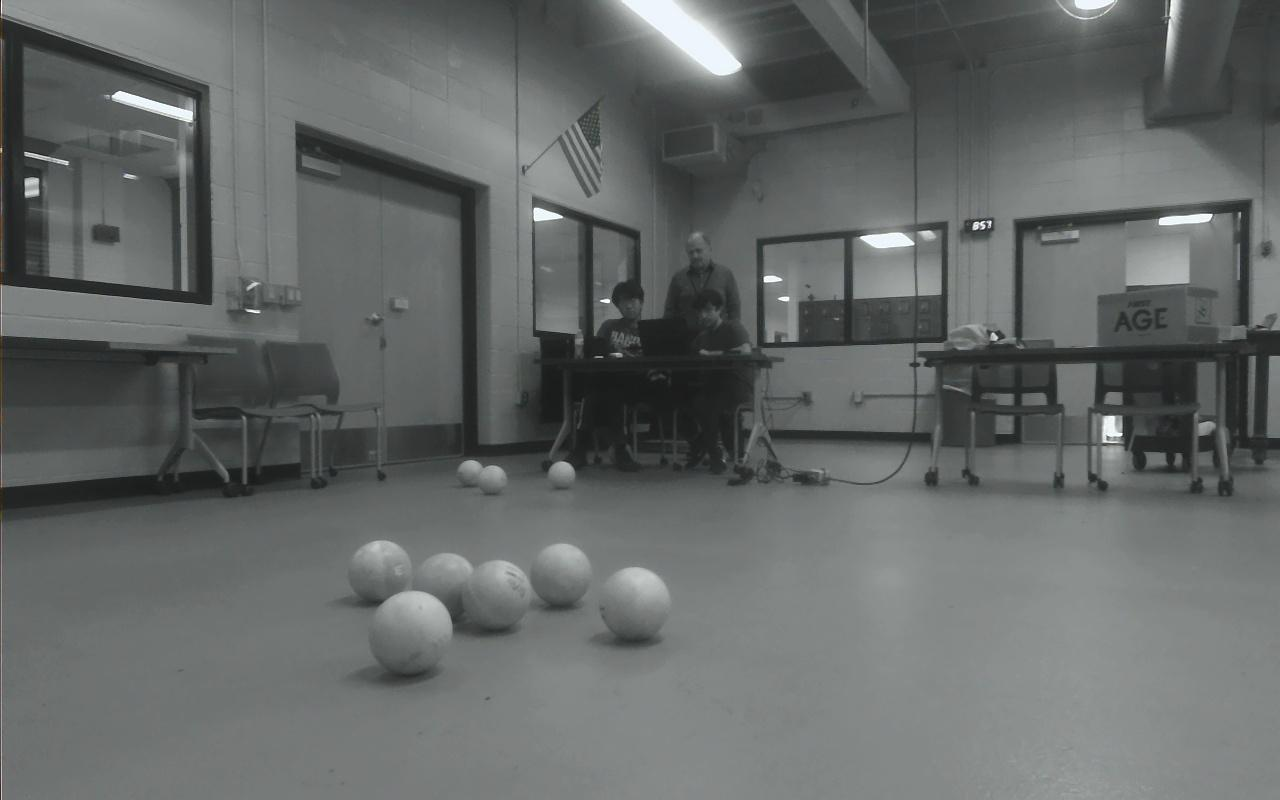Fuel: (369, 590, 452, 676), (598, 566, 671, 641), (462, 559, 531, 632), (348, 540, 412, 604), (413, 552, 474, 619), (531, 542, 591, 608), (477, 465, 507, 495), (548, 461, 576, 489), (457, 459, 483, 486)
